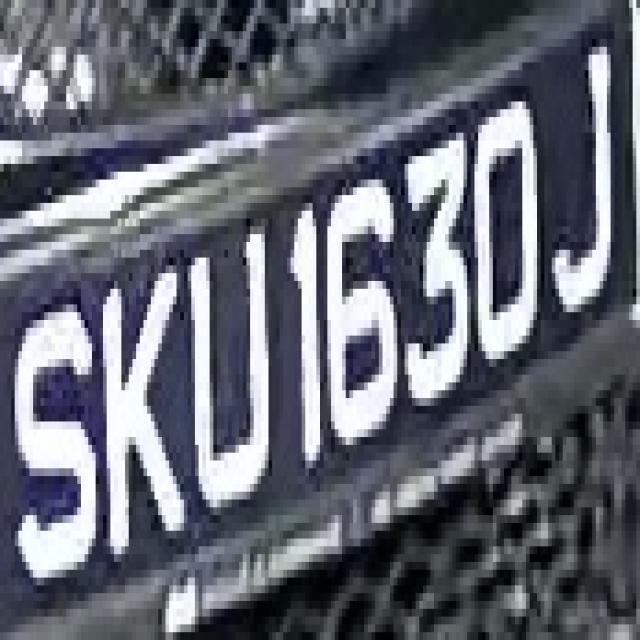0: (471, 62, 548, 367)
1: (290, 164, 328, 507)
3: (386, 94, 471, 406)
6: (324, 133, 404, 445)
J: (544, 47, 626, 359)
K: (106, 250, 188, 585)
S: (18, 265, 92, 609)
U: (184, 203, 283, 499)
